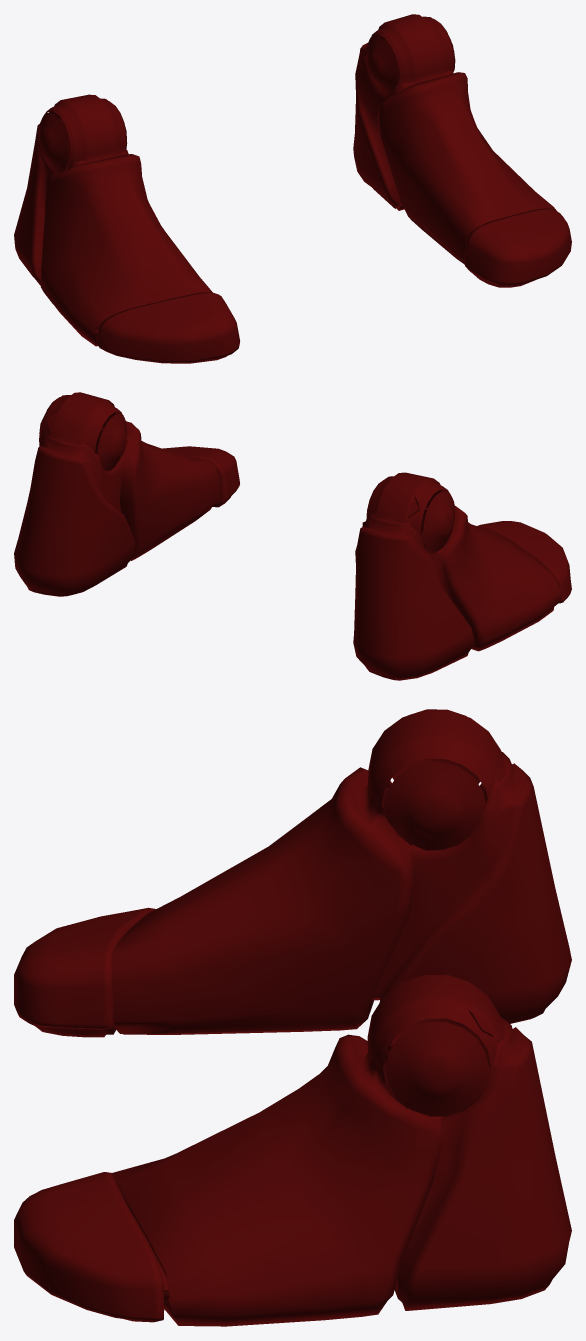
Rendered from SM_SteelBoots_st_both.fbx.
3 views of the same model, one above another, from view 1: azimuth 30°, elevation 25°; view 2: azimuth 150°, elevation 25°; view 3: azimuth 270°, elevation 25° (orthographic). The views are drawn at different scales.
Visible parts, largest first — view 1: SM_SteelBoots; view 2: SM_SteelBoots; view 3: SM_SteelBoots.
Boxes of the visible parts, <box> form: SM_SteelBoots: <box>14,14,571,363</box>; SM_SteelBoots: <box>14,392,571,680</box>; SM_SteelBoots: <box>14,709,571,1326</box>.
Size of what is drawn, in the model's own units: 4.9 by 1.74 by 3.04.
